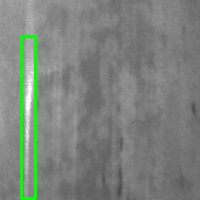scratches: (21, 36, 35, 198)
